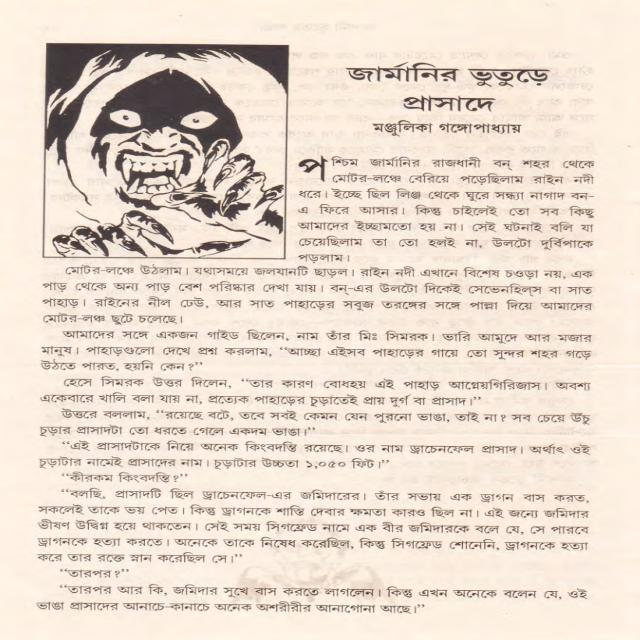image: (42, 37, 290, 259)
paragraph: (26, 487, 598, 566), (29, 264, 601, 325), (288, 154, 604, 264), (28, 328, 604, 373), (35, 377, 604, 408), (37, 407, 606, 438), (36, 442, 605, 472), (28, 585, 594, 615), (68, 471, 171, 484), (64, 568, 117, 579)
text: (364, 118, 530, 139)
title: (343, 60, 561, 114)
